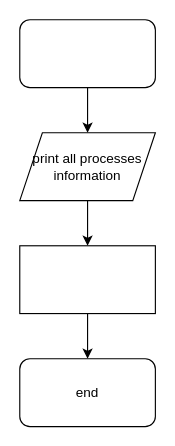
The diagram is 175 pixels wide and 446 high, and some of its shapes have lost their labels. Here are the shapes that lost their labels. From the top down, the centre of each, then its label:
(87,53): start
(87,279): set alarm 10 secs
